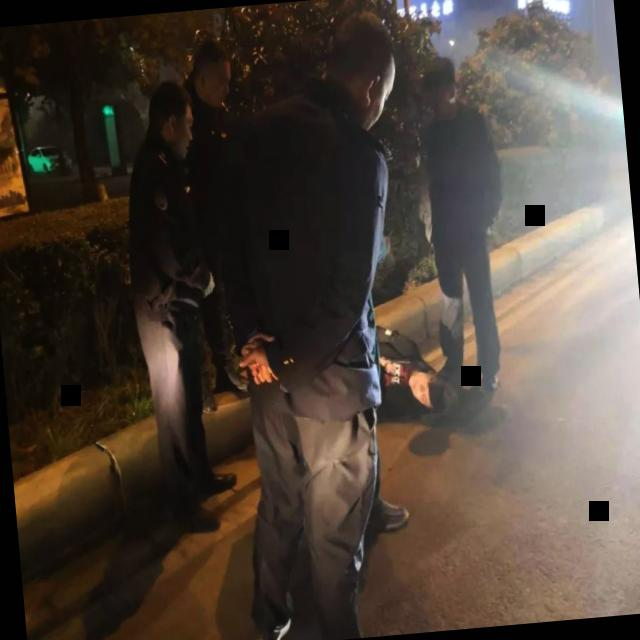Fall-Detected: (178, 212, 472, 554)
